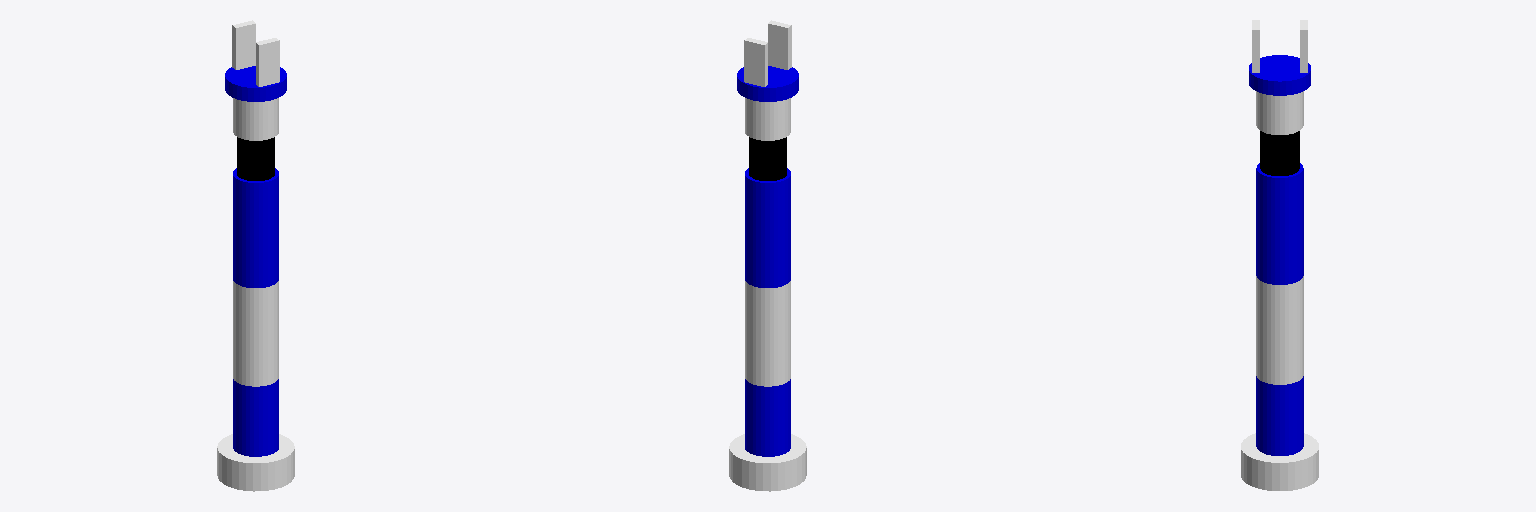
The robot description file, URDF, robot "marm":
<?xml version="1.0" ?>
<!-- =================================================================================== -->
<!-- |    This document was autogenerated by xacro from src/marm_description/urdf/marm.xacro | -->
<!-- |    EDITING THIS FILE BY HAND IS NOT RECOMMENDED                                 | -->
<!-- =================================================================================== -->
<robot name="marm">
  <!-- Defining the colors used in this robot -->
  <material name="Black">
    <color rgba="0 0 0 1"/>
  </material>
  <material name="White">
    <color rgba="1 1 1 1"/>
  </material>
  <material name="Blue">
    <color rgba="0 0 1 1"/>
  </material>
  <material name="Red">
    <color rgba="1 0 0 1"/>
  </material>
  <!-- /////////////////////////////////////   ARM BASE    ////////////////////////////////////////////// -->
  <link name="base_link">
    <visual>
      <origin rpy="0 0 0" xyz="0 0 0"/>
      <geometry>
        <box size="0.001 0.001 0.001"/>
      </geometry>
    </visual>
  </link>
  <joint name="base_joint" type="fixed">
    <origin rpy="0 0 0" xyz="0 0 0.02"/>
    <parent link="base_link"/>
    <child link="link0"/>
  </joint>
  <!-- /////////////////////////////////////    LINK0    ////////////////////////////////////////////// -->
  <link name="link0">
    <visual>
      <origin rpy="0 0 0" xyz="0 0 0"/>
      <geometry>
        <cylinder length="0.04" radius="0.05"/>
      </geometry>
      <material name="White"/>
    </visual>
    <collision>
      <origin rpy="0 0 0" xyz="0 0 0"/>
      <geometry>
        <cylinder length="0.04" radius="0.05"/>
      </geometry>
    </collision>
    <cylinder_inertial_matrix h="0.04" m="1" r="0.05"/>
  </link>
  <joint name="joint1" type="revolute">
    <parent link="link0"/>
    <child link="link1"/>
    <origin rpy="0 1.570795 0" xyz="0 0 0.02"/>
    <axis xyz="-1 0 0"/>
    <limit effort="300" lower="-3.14159" upper="3.14159" velocity="1"/>
  </joint>
  <!-- /////////////////////////////////////   LINK1  ////////////////////////////////////////////// -->
  <link name="link1">
    <visual>
      <origin rpy="0 1.570795 0" xyz="-0.05 0 0"/>
      <geometry>
        <cylinder length="0.1" radius="0.03"/>
      </geometry>
      <material name="Blue"/>
    </visual>
    <collision>
      <origin rpy="0 1.570795 0" xyz="-0.05 0 0"/>
      <geometry>
        <cylinder length="0.1" radius="0.03"/>
      </geometry>
    </collision>
    <cylinder_inertial_matrix h="0.1" m="1" r="0.03"/>
  </link>
  <joint name="joint2" type="revolute">
    <parent link="link1"/>
    <child link="link2"/>
    <origin rpy="-1.570795 0 1.570795" xyz="-0.1 0 0.0"/>
    <axis xyz="1 0 0"/>
    <limit effort="300" lower="-3.14159" upper="3.14159" velocity="1"/>
  </joint>
  <!-- ///////////////////////////////////////   LINK2  ////////////////////////////////////////////// -->
  <link name="link2">
    <visual>
      <origin rpy="0 0 0" xyz="0 0 0.07"/>
      <geometry>
        <cylinder length="0.14" radius="0.03"/>
      </geometry>
      <material name="White"/>
    </visual>
    <collision>
      <origin rpy="0 0 0" xyz="0 0 0.07"/>
      <geometry>
        <cylinder length="0.14" radius="0.03"/>
      </geometry>
    </collision>
    <cylinder_inertial_matrix h="0.14" m="0.8" r="0.03"/>
  </link>
  <joint name="joint3" type="revolute">
    <parent link="link2"/>
    <child link="link3"/>
    <origin rpy="0 3.14159 0" xyz="0 0 0.14"/>
    <axis xyz="-1 0 0"/>
    <limit effort="300" lower="-3.14159" upper="3.14159" velocity="1"/>
  </joint>
  <!-- /////////////////////////////////   LINK3  ///////////////////////////////////////////////////// -->
  <link name="link3">
    <visual>
      <origin rpy="0 0 0" xyz="0 0 -0.075"/>
      <geometry>
        <cylinder length="0.15" radius="0.03"/>
      </geometry>
      <material name="Blue"/>
    </visual>
    <collision>
      <origin rpy="0 0 0" xyz="0 0 -0.075"/>
      <geometry>
        <cylinder length="0.15" radius="0.03"/>
      </geometry>
    </collision>
    <cylinder_inertial_matrix h="0.15" m="0.8" r="0.03"/>
  </link>
  <joint name="joint4" type="revolute">
    <parent link="link3"/>
    <child link="link4"/>
    <origin rpy="0 1.570795 3.14159" xyz="0.0 0.0 -0.15"/>
    <axis xyz="1 0 0"/>
    <limit effort="300" lower="-3.14159" upper="3.14159" velocity="1"/>
  </joint>
  <!-- ///////////////////////////////////   LINK4  //////////////////////////////////////////////// -->
  <link name="link4">
    <visual>
      <origin rpy="0 1.570795 0" xyz="0.03 0 0"/>
      <geometry>
        <cylinder length="0.06" radius="0.025"/>
      </geometry>
      <material name="Black"/>
    </visual>
    <collision>
      <origin rpy="0 1.570795 0" xyz="0.03 0 0"/>
      <geometry>
        <cylinder length="0.06" radius="0.025"/>
      </geometry>
    </collision>
    <cylinder_inertial_matrix h="0.06" m="0.7" r="0.025"/>
  </link>
  <joint name="joint5" type="revolute">
    <parent link="link4"/>
    <child link="link5"/>
    <origin rpy="0 1.570795 0" xyz="0.06 0.0 0.0"/>
    <axis xyz="1 0 0"/>
    <limit effort="300" lower="-3.14159" upper="3.14159" velocity="1"/>
  </joint>
  <!-- //////////////////////////////////   LINK5  ///////////////////////////////////////////////// -->
  <link name="link5">
    <visual>
      <origin rpy="0 0 0" xyz="0 0 0.03"/>
      <geometry>
        <cylinder length="0.06" radius="0.03"/>
      </geometry>
      <material name="White"/>
    </visual>
    <collision>
      <origin rpy="0 0 0" xyz="0 0 0.03 "/>
      <geometry>
        <cylinder length="0.06" radius="0.03"/>
      </geometry>
    </collision>
    <cylinder_inertial_matrix h="0.06" m="0.7" r="0.03"/>
  </link>
  <joint name="joint6" type="revolute">
    <parent link="link5"/>
    <child link="link6"/>
    <origin rpy="4.712384999999999 -1.570795 0" xyz="0 0 0.06"/>
    <axis xyz="1 0 0"/>
    <limit effort="300" lower="-6.28318" upper="6.28318" velocity="1"/>
  </joint>
  <!-- ////////////////////////////////   LINK6  ///////////////////////////////////////////////// -->
  <link name="link6">
    <visual>
      <origin rpy="0 1.570795 0" xyz="0.01 0 0 "/>
      <geometry>
        <cylinder length="0.02" radius="0.04"/>
      </geometry>
      <material name="Blue"/>
    </visual>
    <collision>
      <origin rpy="0 1.570795 0" xyz="0.01 0 0"/>
      <geometry>
        <cylinder length="0.02" radius="0.04"/>
      </geometry>
    </collision>
    <cylinder_inertial_matrix h="0.02" m="0.6" r="0.04"/>
  </link>
  <joint name="finger_joint1" type="prismatic">
    <parent link="link6"/>
    <child link="gripper_finger_link1"/>
    <origin rpy="0 0 0" xyz="0.02 -0.03 0"/>
    <axis xyz="0 1 0"/>
    <limit effort="100" lower="0" upper="0.06" velocity="0.02"/>
  </joint>
  <!-- //////////////////////////////////////   gripper   ////////////////////////////////////////////// -->
  <!-- LEFT GRIPPER AFT LINK -->
  <link name="gripper_finger_link1">
    <visual>
      <origin rpy="0 1.570795 0" xyz="0.03 0 0"/>
      <geometry>
        <box size="0.03 0.01 0.06"/>
      </geometry>
      <material name="White"/>
    </visual>
    <collision>
      <origin rpy="0 1.570795 0" xyz="0.03 0 0"/>
      <geometry>
        <box size="0.03 0.01 0.06"/>
      </geometry>
    </collision>
    <box_inertial_matrix d="0.03" h="0.06" m="0.5" w="0.01"/>
  </link>
  <joint name="finger_joint2" type="fixed">
    <parent link="link6"/>
    <child link="gripper_finger_link2"/>
    <origin rpy="0 0 0" xyz="0.02 0.03 0"/>
  </joint>
  <!-- RIGHT GRIPPER AFT LINK -->
  <link name="gripper_finger_link2">
    <visual>
      <origin rpy="0 1.570795 0" xyz="0.03 0 0"/>
      <geometry>
        <box size="0.03 0.01 0.06"/>
      </geometry>
      <material name="White"/>
    </visual>
    <collision>
      <origin rpy="0 1.570795 0" xyz="0.03 0 0"/>
      <geometry>
        <box size="0.03 0.01 0.06"/>
      </geometry>
    </collision>
    <box_inertial_matrix d="0.03" h="0.06" m="0.5" w="0.01"/>
  </link>
  <!-- Grasping frame -->
  <link name="grasping_frame"/>
  <joint name="grasping_frame_joint" type="fixed">
    <parent link="link6"/>
    <child link="grasping_frame"/>
    <origin rpy="0 0 0" xyz="0.06 0 0"/>
  </joint>
</robot>

--- Facts derived from the render (not from the file) ---
3 views of the same robot in one strip: view 1: azimuth 30°, elevation 25°; view 2: azimuth 150°, elevation 25°; view 3: azimuth 270°, elevation 25° (orthographic).
Robot: marm — 11 links, 10 joints (6 revolute, 1 prismatic, 3 fixed); root link base_link; default pose: every joint at zero.
Links seen in each view (by area): view 1: link3, link2, link1, link0, link5, link4, link6, gripper_finger_link1, gripper_finger_link2; view 2: link3, link2, link1, link0, link5, link4, link6, gripper_finger_link2, gripper_finger_link1; view 3: link3, link2, link1, link0, link6, link5, link4.
Boxes of the visible links, left/top/right/bottom form: link3: left=233, top=168, right=278, bottom=287; link2: left=233, top=281, right=278, bottom=386; link1: left=233, top=379, right=278, bottom=456; link0: left=217, top=434, right=294, bottom=491; link5: left=233, top=98, right=278, bottom=140; link4: left=237, top=137, right=274, bottom=180; link6: left=225, top=66, right=286, bottom=101; gripper_finger_link1: left=232, top=20, right=255, bottom=69; gripper_finger_link2: left=256, top=38, right=279, bottom=86; link3: left=745, top=168, right=790, bottom=287; link2: left=745, top=281, right=790, bottom=386; link1: left=745, top=379, right=790, bottom=456; link0: left=729, top=434, right=806, bottom=491; link5: left=745, top=98, right=790, bottom=140; link4: left=749, top=137, right=786, bottom=180; link6: left=737, top=66, right=798, bottom=101; gripper_finger_link2: left=768, top=20, right=791, bottom=69; gripper_finger_link1: left=744, top=38, right=767, bottom=86; link3: left=1256, top=163, right=1303, bottom=284; link2: left=1256, top=276, right=1303, bottom=384; link1: left=1256, top=376, right=1303, bottom=455; link0: left=1241, top=433, right=1318, bottom=490; link6: left=1249, top=55, right=1310, bottom=95; link5: left=1256, top=91, right=1303, bottom=134; link4: left=1260, top=131, right=1299, bottom=175.
Size in the robot's own frame: 0.1 by 0.1 by 0.6305 metres.
Geometry: primitives only (box / cylinder / sphere), no mesh files.
